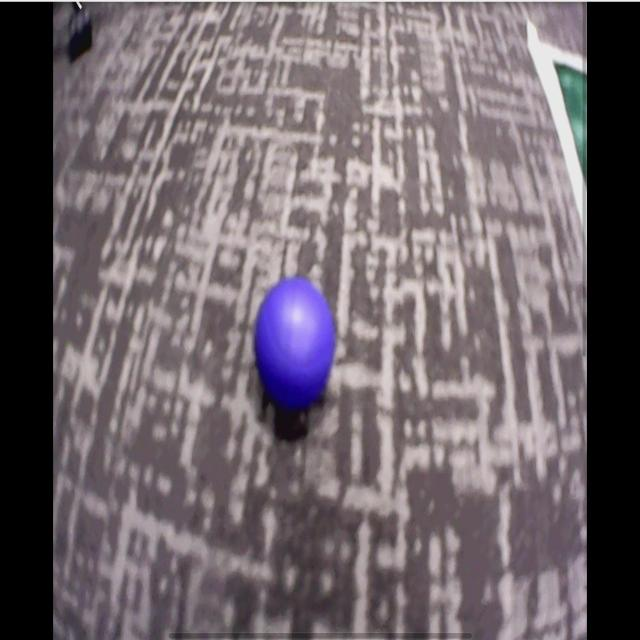ball: (255, 278, 335, 410)
